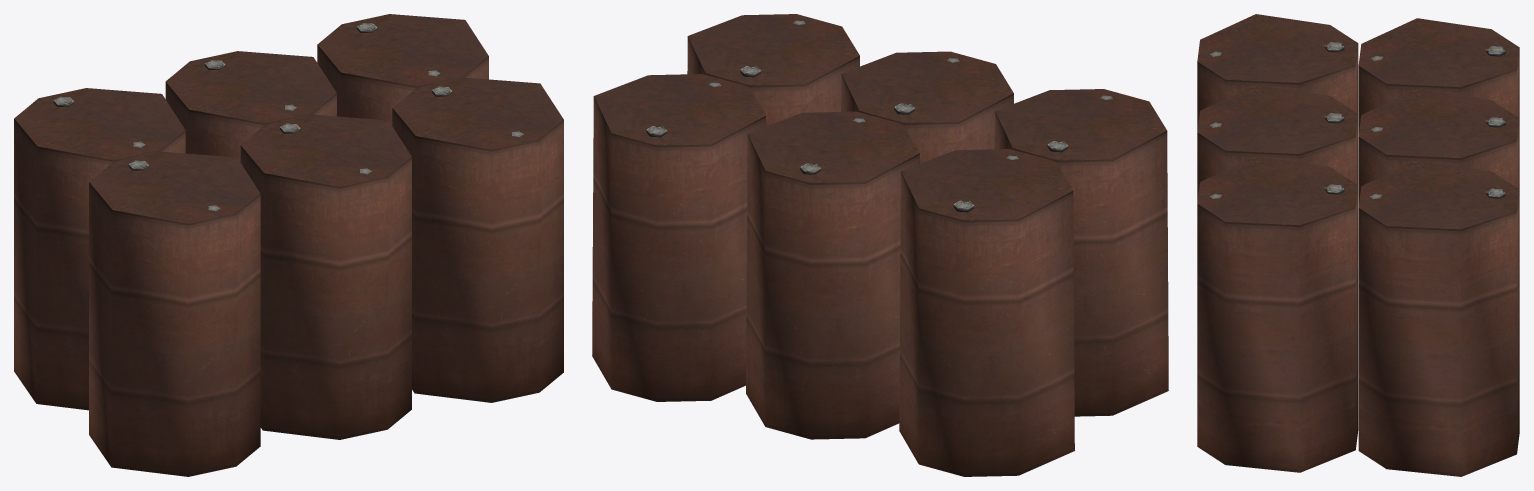
The model's file is Prop_Qyt01.glb.
3 views of the same model, side by side, from view 1: azimuth 30°, elevation 25°; view 2: azimuth 150°, elevation 25°; view 3: azimuth 270°, elevation 25° (orthographic). The views are drawn at different scales.
Visible parts, largest first — view 1: xiutz_qyt_01; view 2: xiutz_qyt_01; view 3: xiutz_qyt_01.
Part boxes in pixels (left/top/right/bottom): xiutz_qyt_01: left=14, top=14, right=563, bottom=476; xiutz_qyt_01: left=592, top=14, right=1168, bottom=476; xiutz_qyt_01: left=1197, top=14, right=1519, bottom=476.
Bounding box in the file's own units: 2.79 × 1.48 × 1.75.
1 material, 1 textured.
